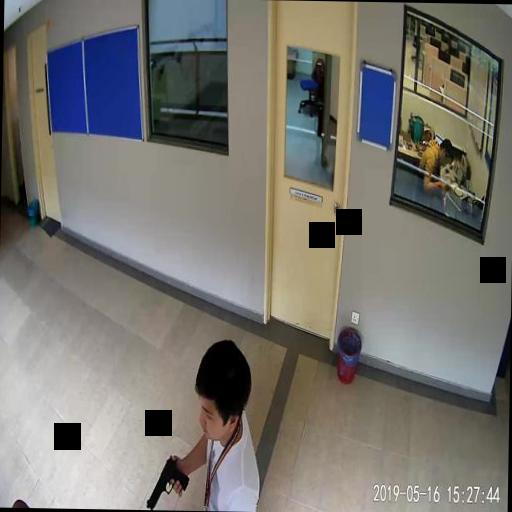Handgun: (146, 455, 188, 510)
